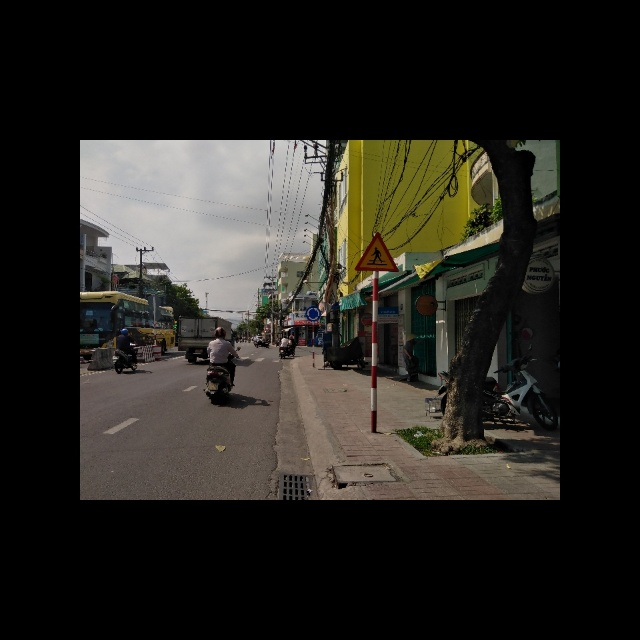Nơi giao nhau chạy theo vòng xuyến: (305, 305, 321, 321)
Đường người đi bộ sang đường: (354, 231, 399, 272)
